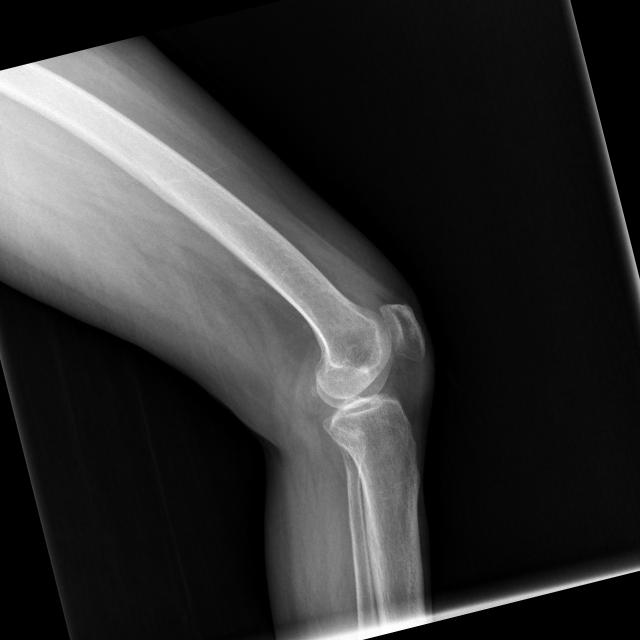Knee: (294, 289, 453, 472)
